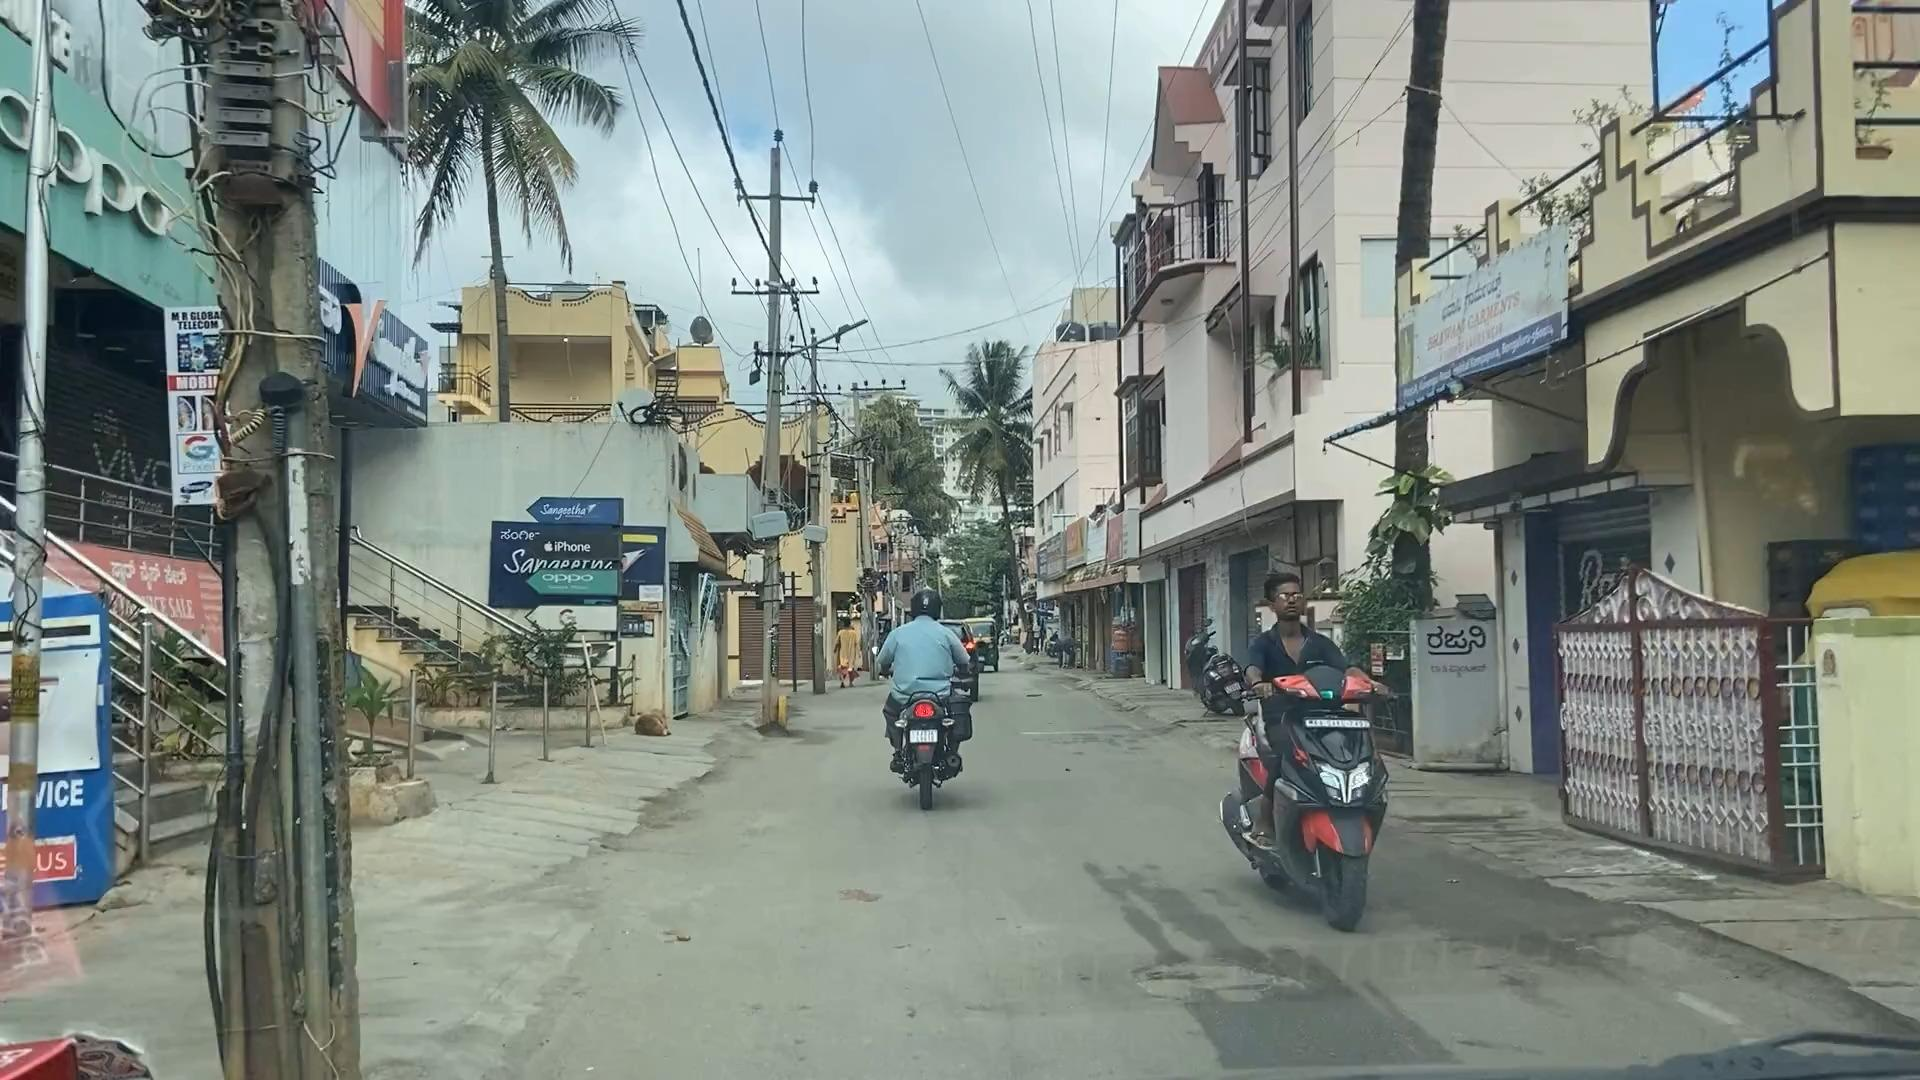LMV: (1246, 566, 1373, 909), (884, 582, 967, 815)
RoadDamages: (1134, 948, 1324, 1014)
